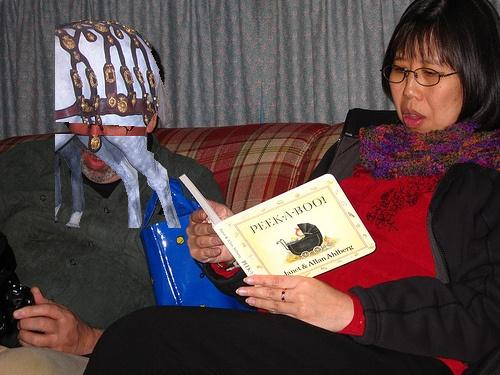tampered: (56, 20, 181, 228)
